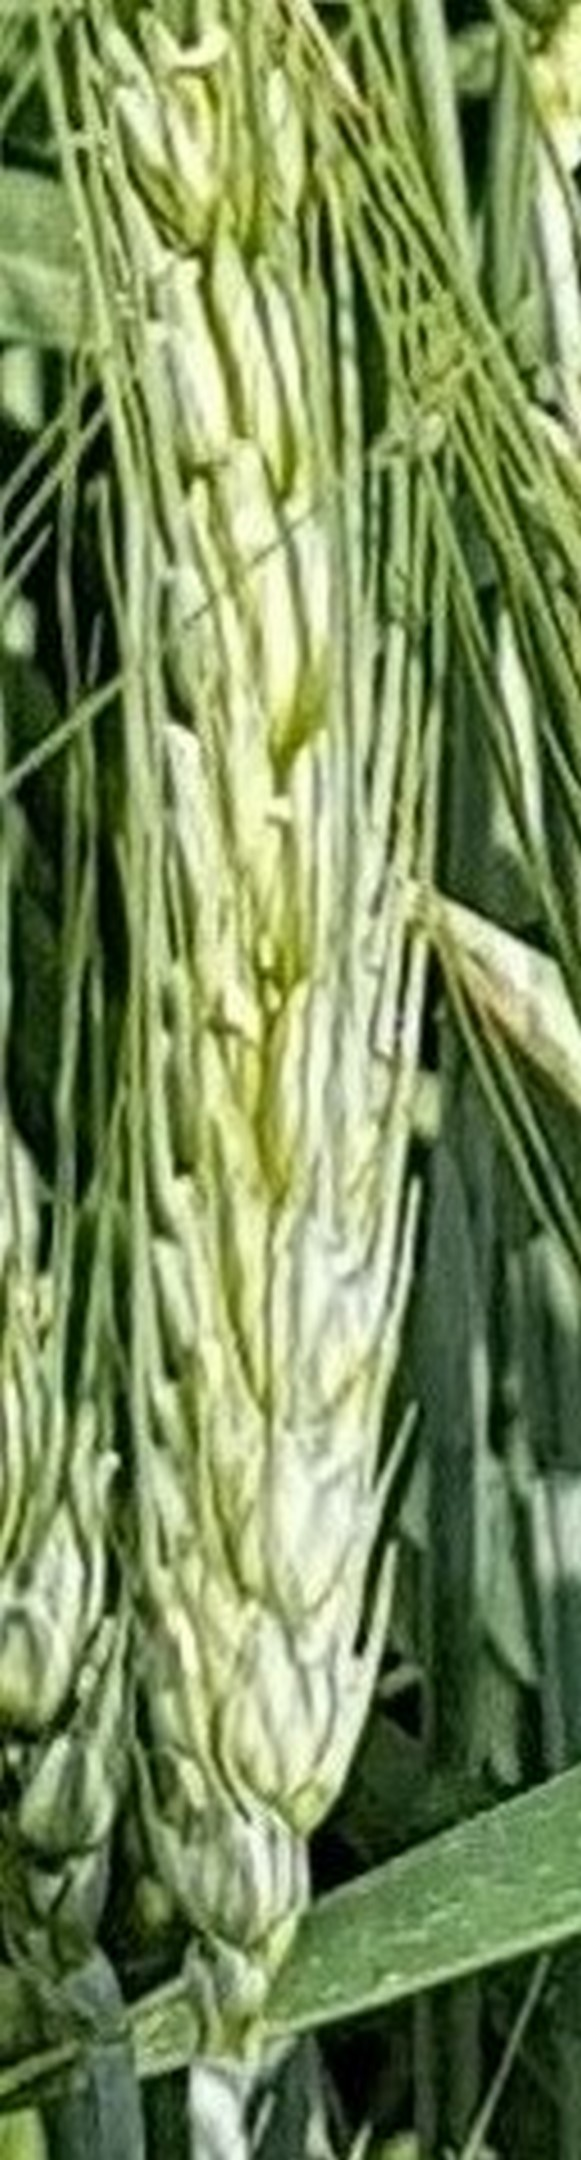Healthy Wheat: (56, 96, 465, 1946)
